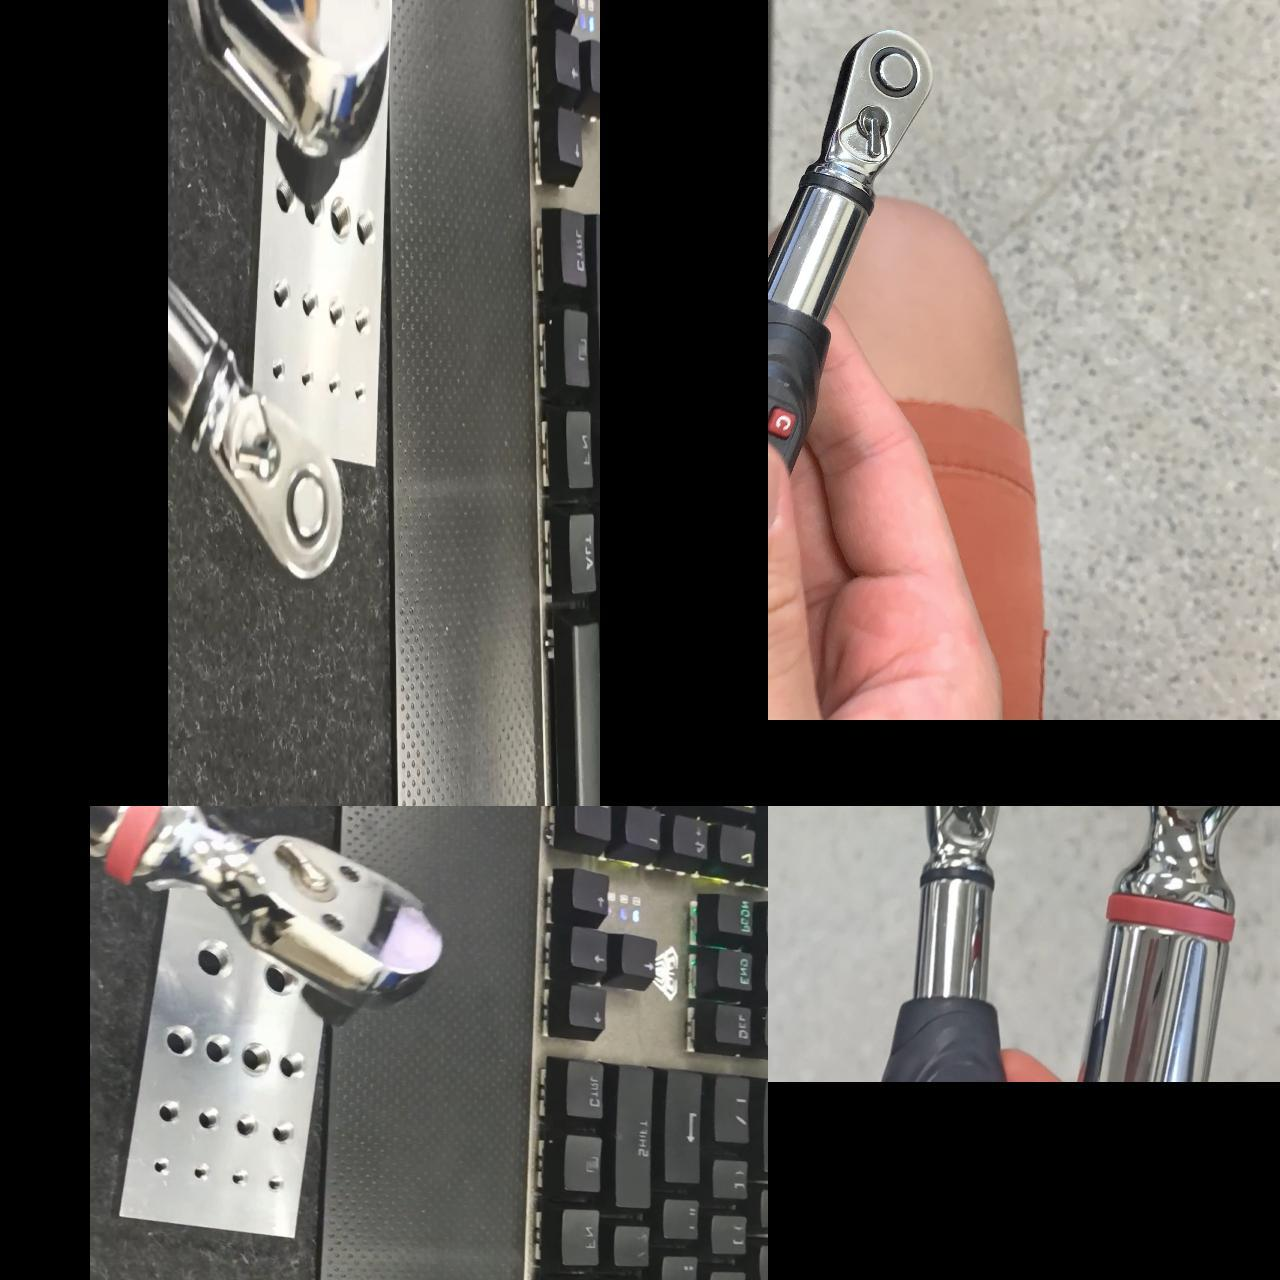Tool: (152, 806, 440, 1014), (211, 381, 340, 574), (806, 27, 942, 191), (1126, 806, 1272, 926), (919, 806, 1022, 876)
